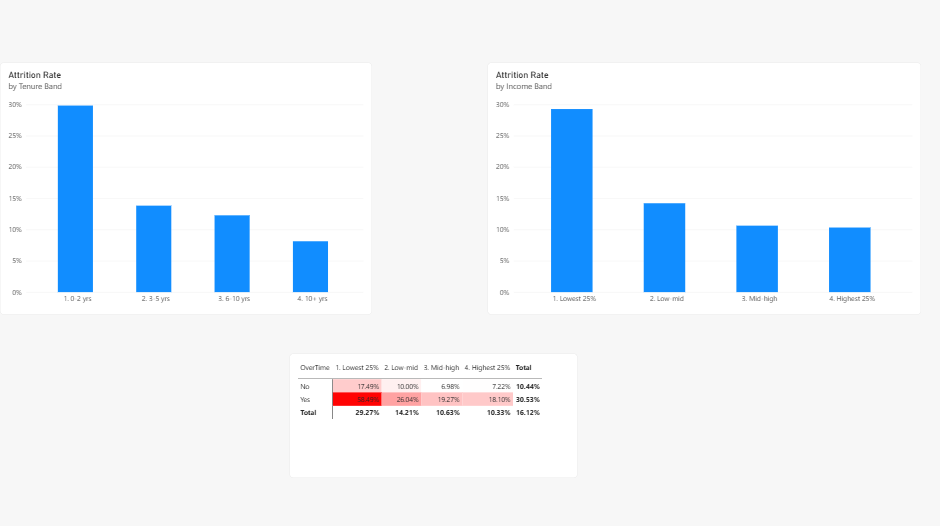

The page's visual inventory and layout, read from the dashboard file:
{"tool":"powerbi","page":{"name":"Attrition Drivers","canvas":[1920,1080],"ordinal":1},"visuals":[{"type":"columnChart","fields":{"Category":["employees.Income Band"],"Y":["employees.Attrition Rate"]},"box":[10,0,280,280],"z":0},{"type":"columnChart","fields":{"Category":["employees.Tenure Band"],"Y":["employees.Attrition Rate"]},"box":[10,290,280,280],"z":1},{"type":"pivotTable","fields":{"Columns":["employees.Income Band"],"Rows":["employees.OverTime"],"Values":["employees.Attrition Rate"]},"box":[8.3,488.3,897.9,500.7],"z":2}]}

Visuals, with their boxes in screenshot pixels (x1, y1, x2, y2), scaled from the page's 1920x1080 canvas onto the 940x526 screenshot:
columnChart - employees.Income Band x employees.Attrition Rate: left=5, top=0, right=142, bottom=136
columnChart - employees.Tenure Band x employees.Attrition Rate: left=5, top=141, right=142, bottom=278
pivotTable - employees.Income Band x employees.OverTime: left=4, top=238, right=444, bottom=482
